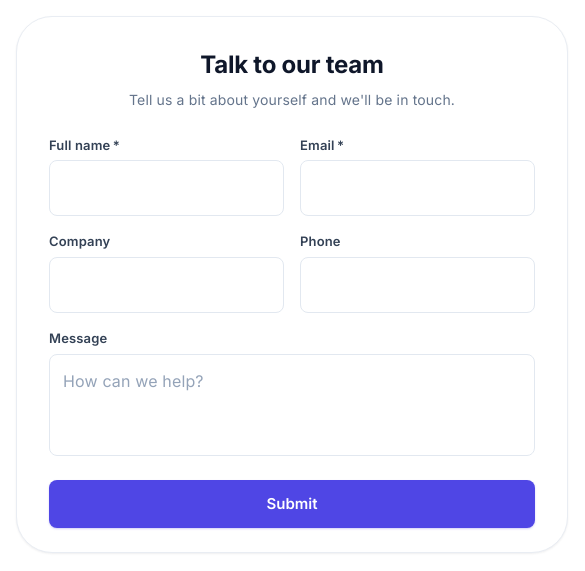
Test: Public LeadFormSection › submits a valid lead including the message and shows a success message
This screenshot has width=585, height=571.
In the field labelled "Full name *": (166, 188) [49,160,284,216], type "Jane Doe"
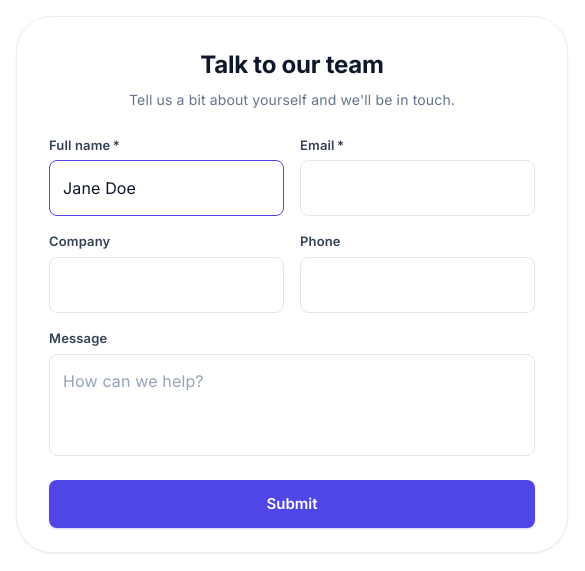
In the field labelled "Email *": (418, 188) [300,160,535,216], type "jane@example.com"
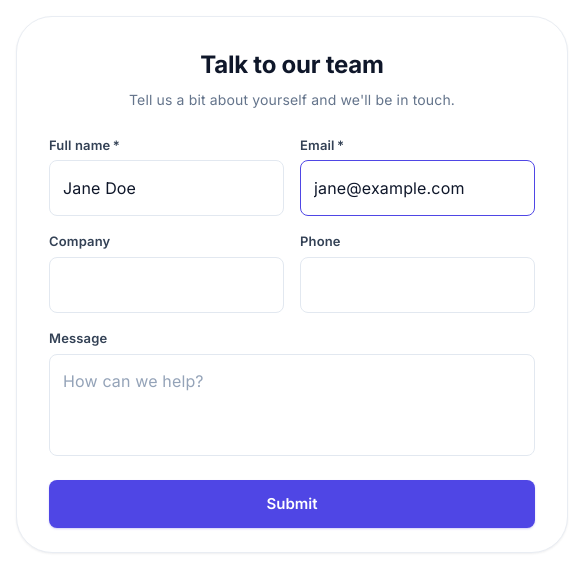
In the text box labelled "Message": (292, 405) [63,370,521,439], type "Please call me about pricing."
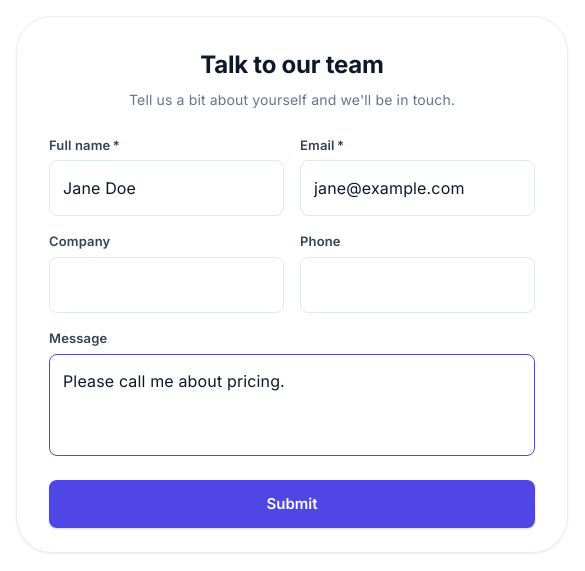
Click the button "Submit": (292, 504) [49,480,535,528]
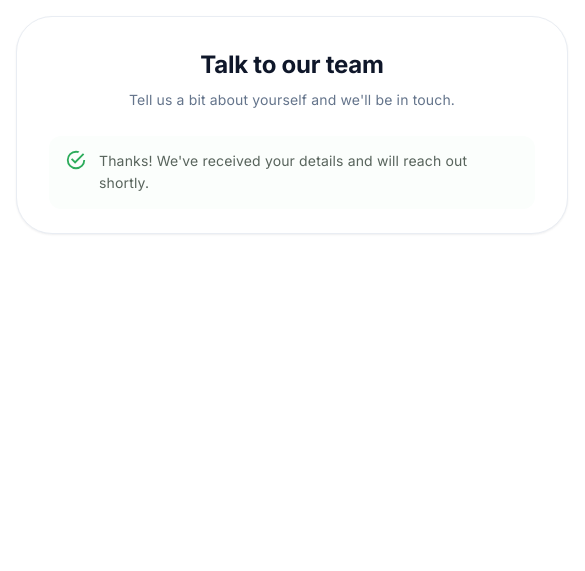
Now the text "We've received your details" is shown, box [99,152,467,191]
